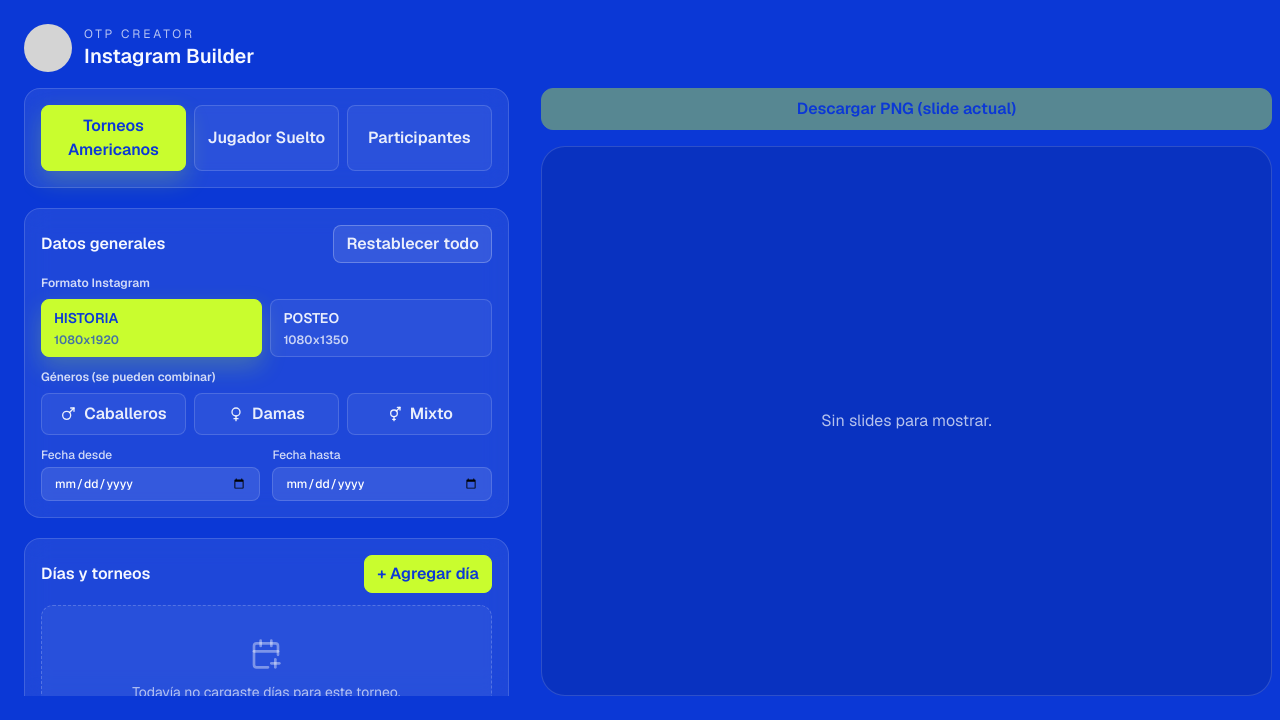
PostBuilder › actualiza la preview al seleccionar género
The image size is (1280, 720).
What coordinates should you click on to do the following:
click the button "Mixto"
I would click on:
 (419, 414)
Its box is left=347, top=393, right=492, bottom=435.
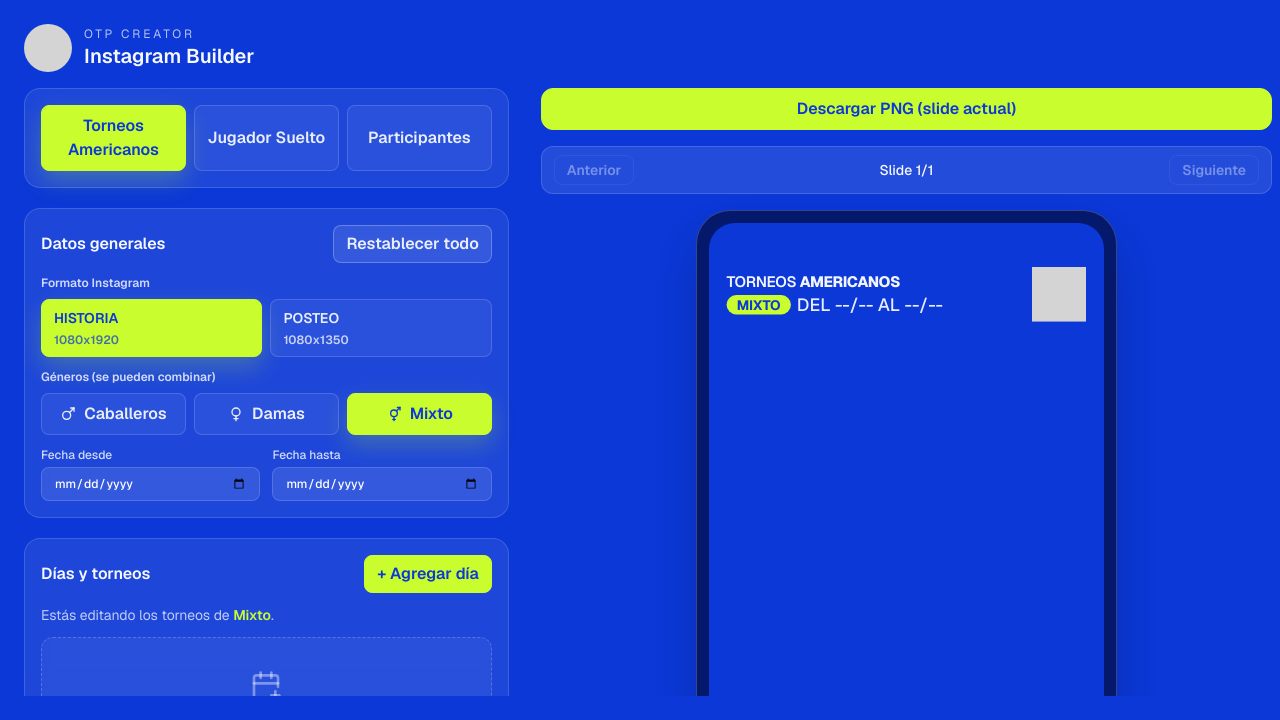
Check: the text "MIXTO" is shown, box left=727, top=295, right=791, bottom=315
